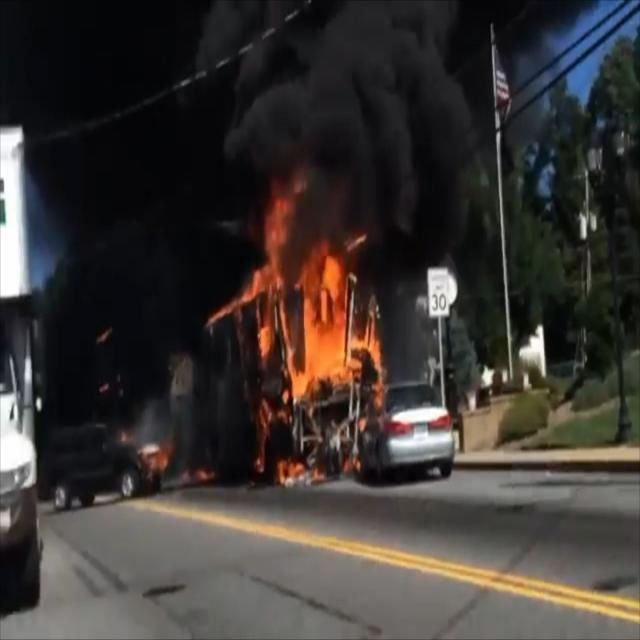fire: (230, 176, 391, 474)
